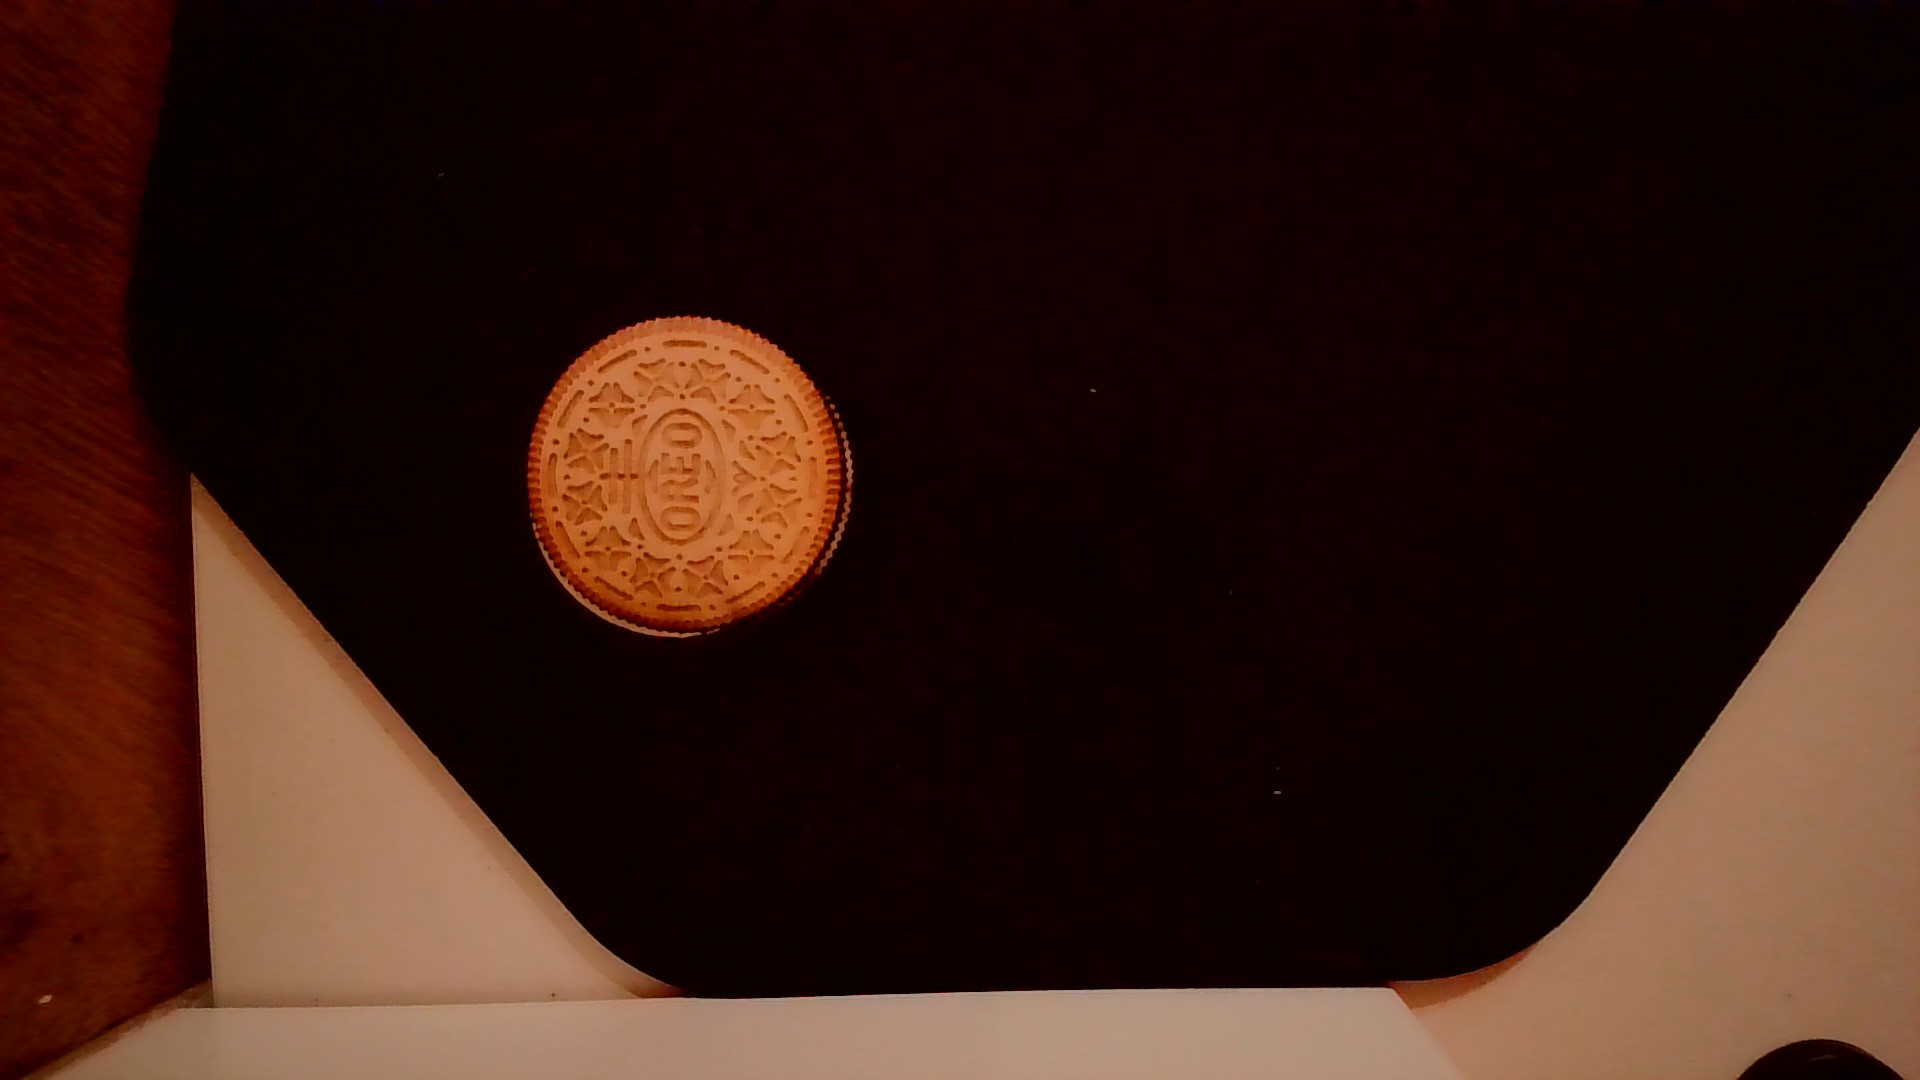Décalé: (520, 512, 704, 647)
Oréo: (518, 307, 860, 647)
